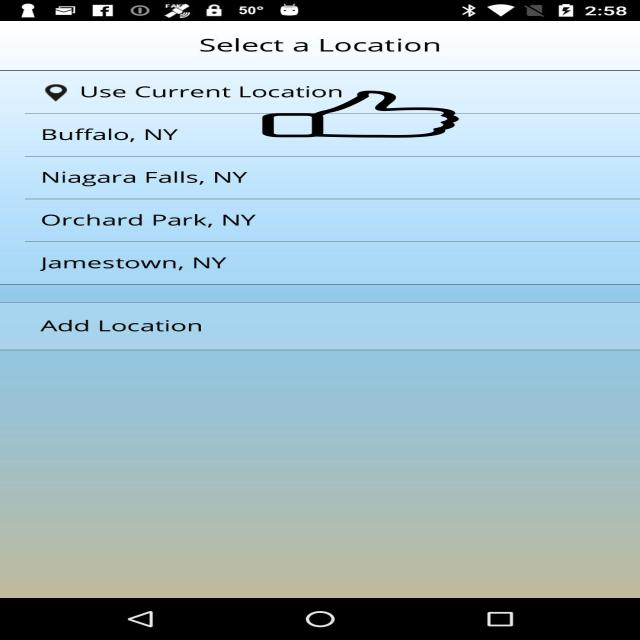privacy zuckering: (259, 90, 462, 138)
